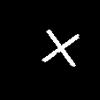single_crochet: (43, 30, 78, 65)
